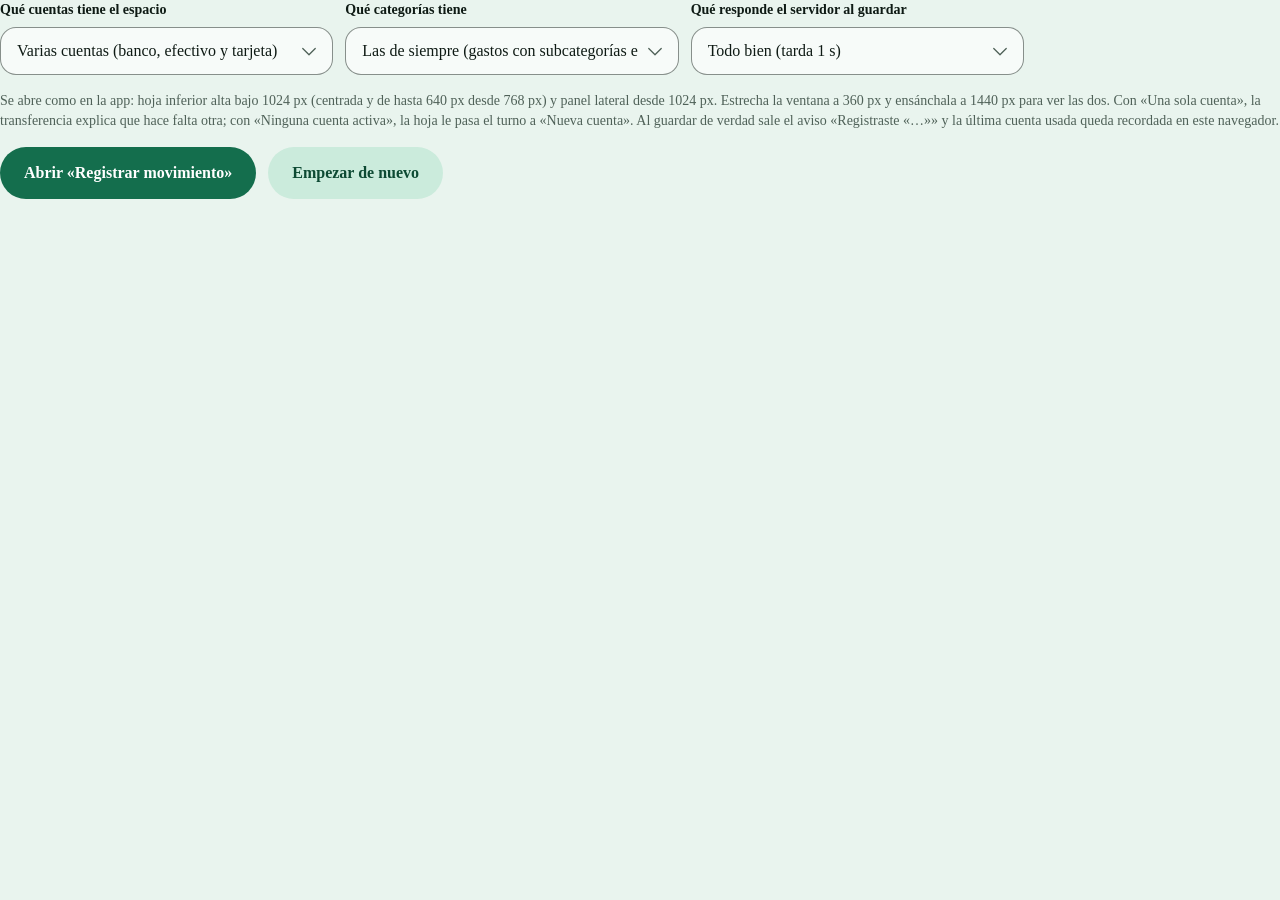
Test: MovementSheetDemo › registers an expense and tells the container
The width and height of the screenshot is (1280, 900).
Click the button "Abrir «Registrar movimiento»". click: (128, 173)
box: [0, 147, 256, 199]
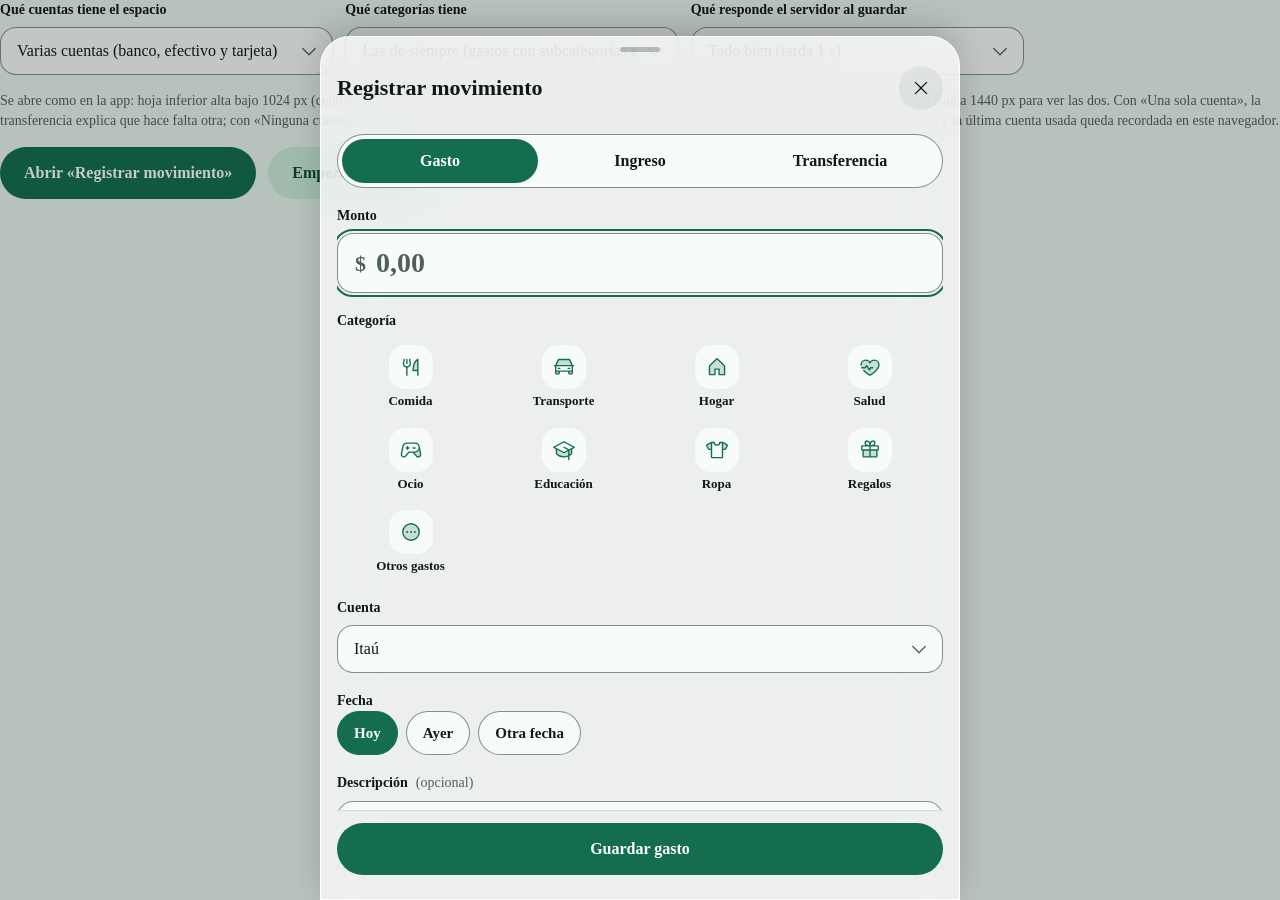
Type "2340,50" into the field labelled "Monto". click: (640, 263)
box: [337, 233, 943, 293]
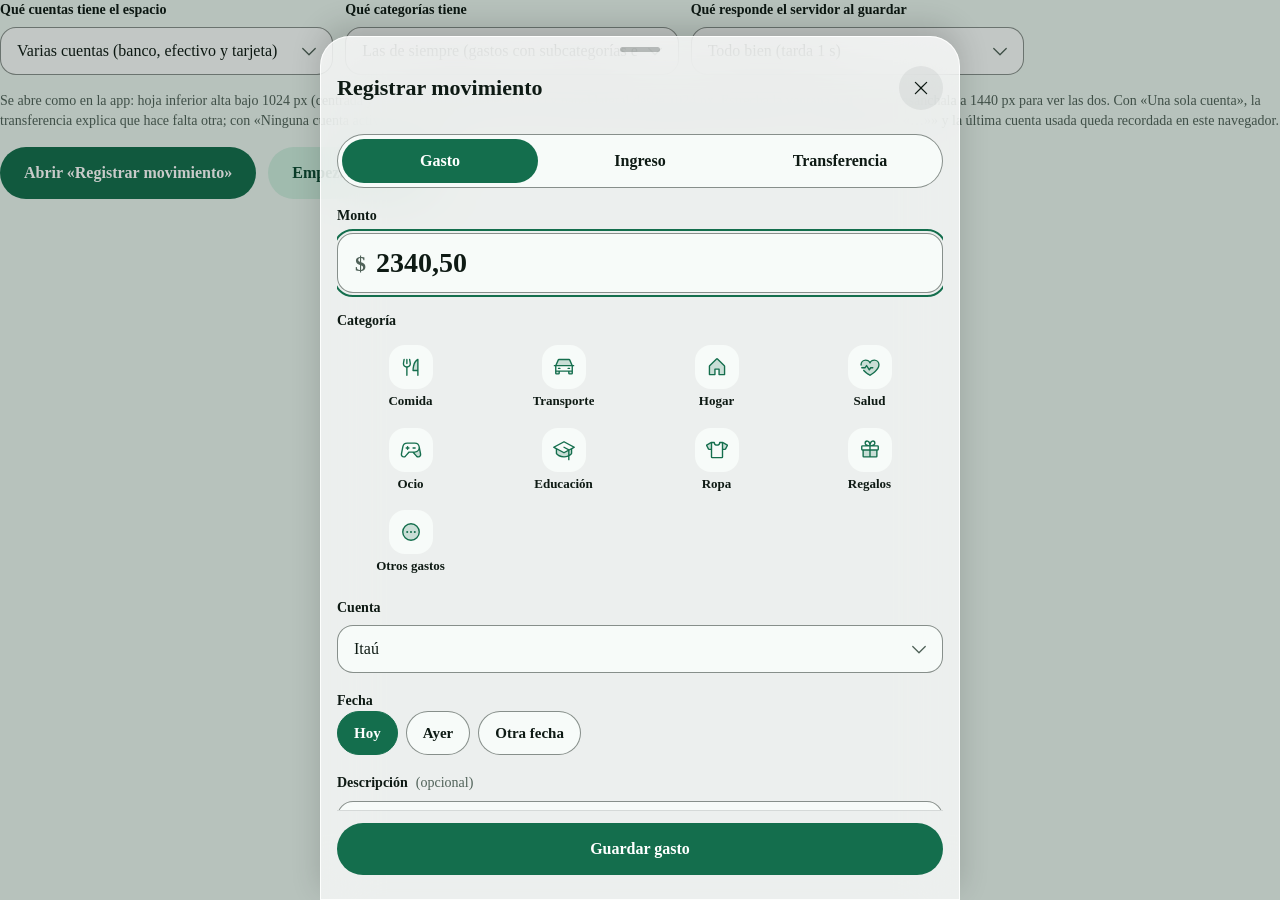
Click the button "Ropa". click: (716, 460)
box: [643, 422, 790, 498]
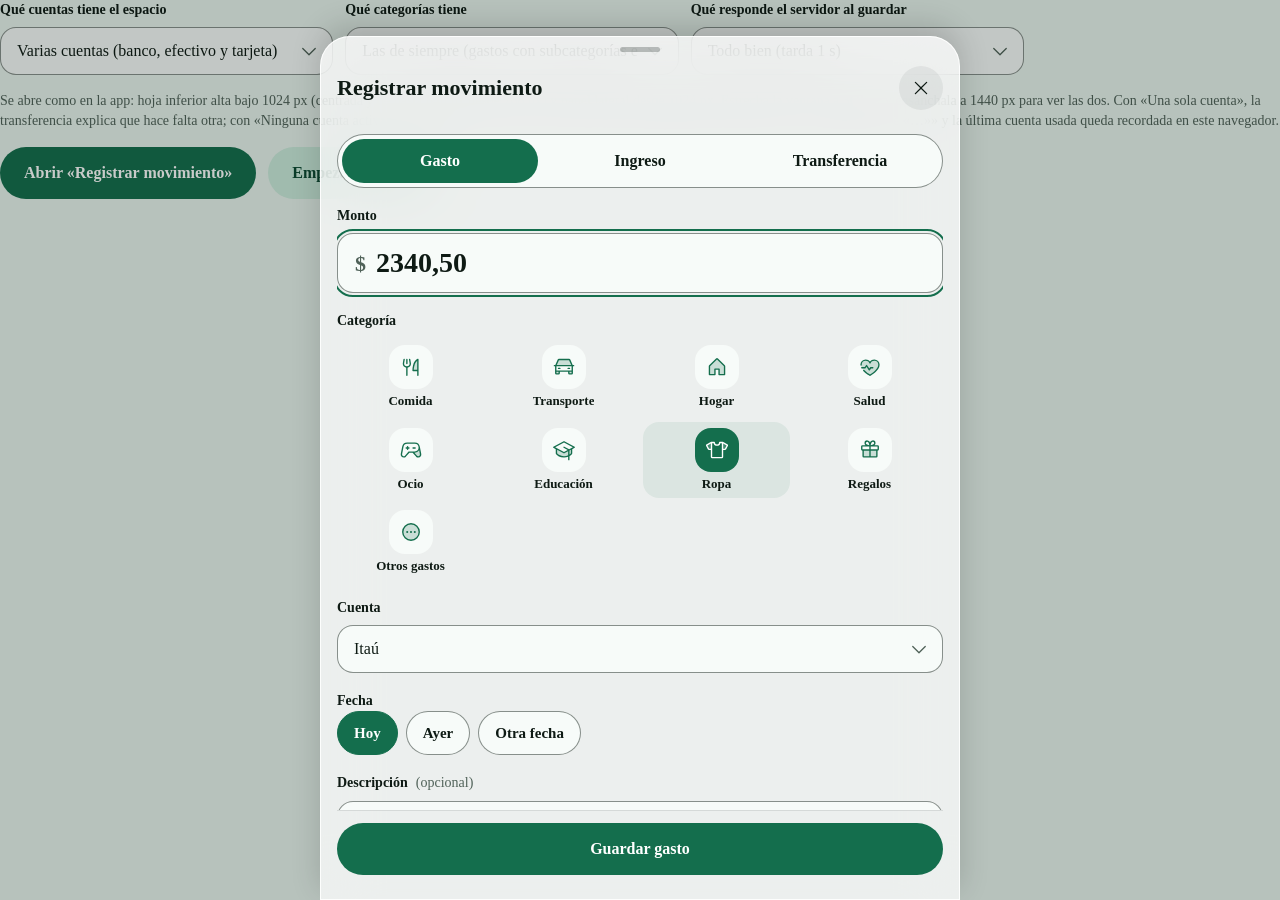
Click the button "Guardar gasto". click: (640, 849)
box: [337, 823, 943, 875]
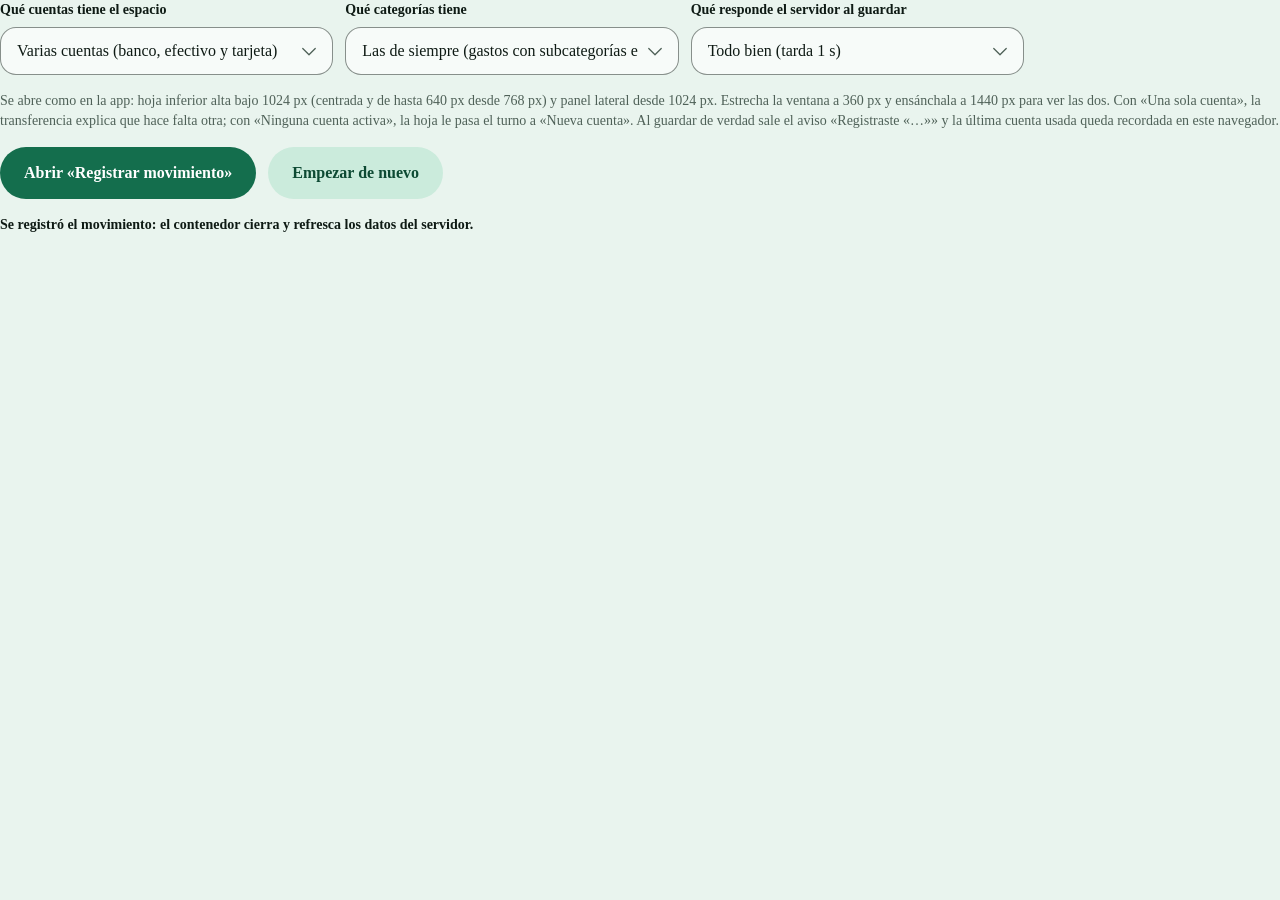
expect the text "Se registró el movimiento" is shown: met, box [0, 217, 473, 232]
